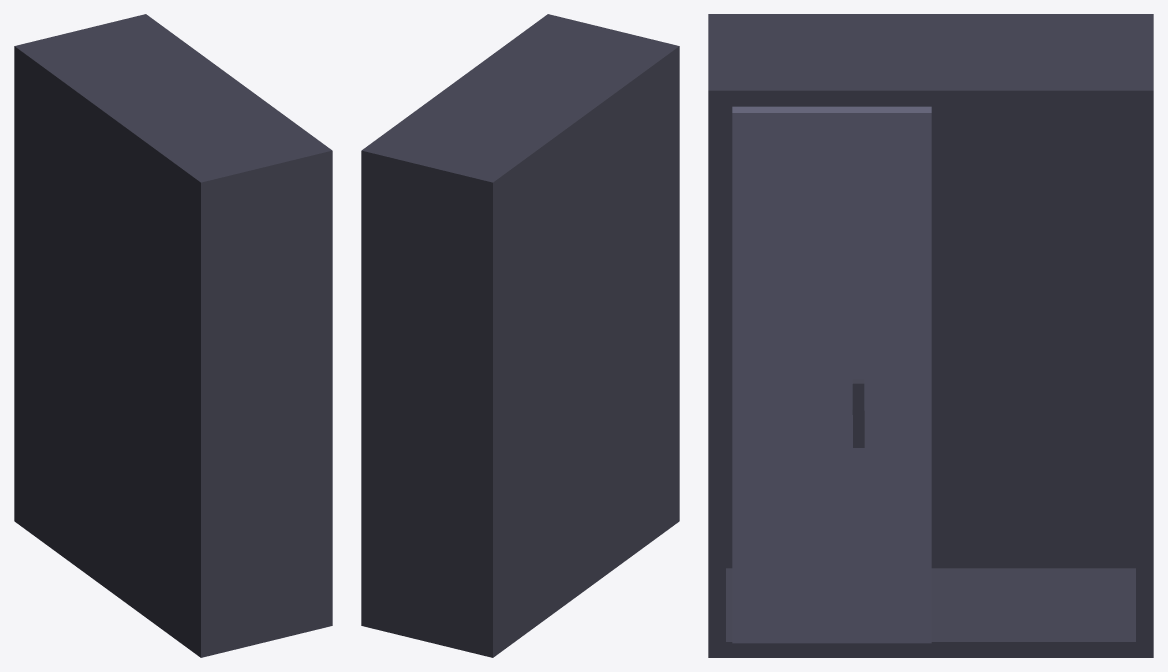
File: Commode.fbx
The picture shows the model from 3 angles, left to right: view 1: azimuth 30°, elevation 25°; view 2: azimuth 150°, elevation 25°; view 3: azimuth 270°, elevation 25°; orthographic projection. The views are drawn at different scales.
Parts seen in each view (by area): view 1: Cube; view 2: Cube; view 3: Cube, Cube.002.
Boxes of the visible parts, x1,y1,x2,y2 form: Cube: (14,14,332,657); Cube: (361,14,679,657); Cube: (708,14,1153,657); Cube.002: (732,106,931,643).
Bounding box in the file's own units: 80.54 × 250 × 178.
